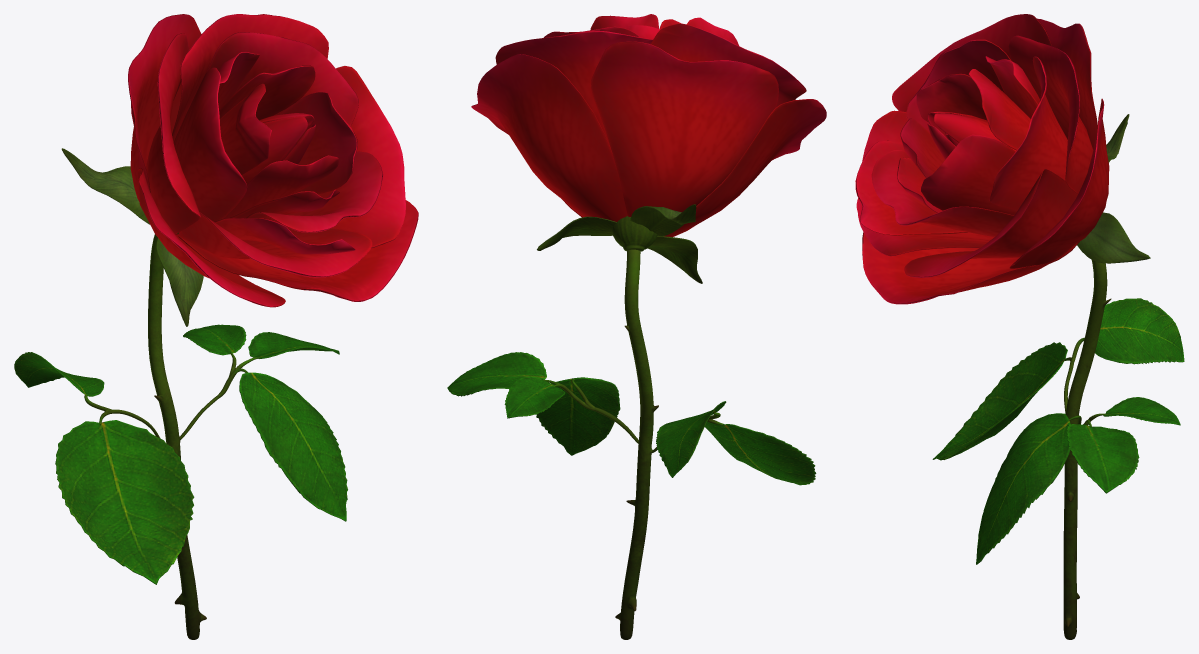
File: rose_3d.glb
The picture shows the model from 3 angles, left to right: view 1: azimuth 30°, elevation 25°; view 2: azimuth 150°, elevation 25°; view 3: azimuth 270°, elevation 25°; orthographic projection. The views are drawn at different scales.
Visible parts, largest first — view 1: rose.1_1; view 2: rose.1_1; view 3: rose.1_1.
Part boxes in pixels (x1,y1,x2,y2): rose.1_1: [14, 14, 418, 639]; rose.1_1: [447, 14, 826, 639]; rose.1_1: [855, 14, 1184, 639].
Bounding box in the file's own units: 0.0189 × 0.0342 × 0.0168.
Materials: 1 (1 with a texture image).
